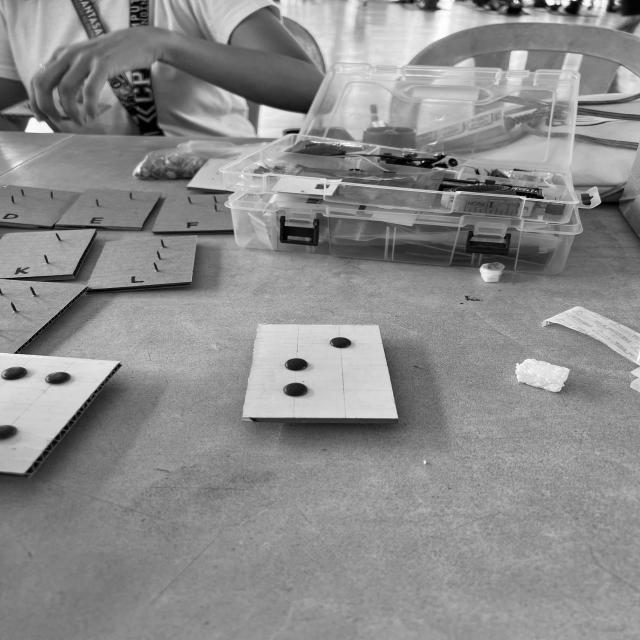braiile: (244, 325, 398, 420)
